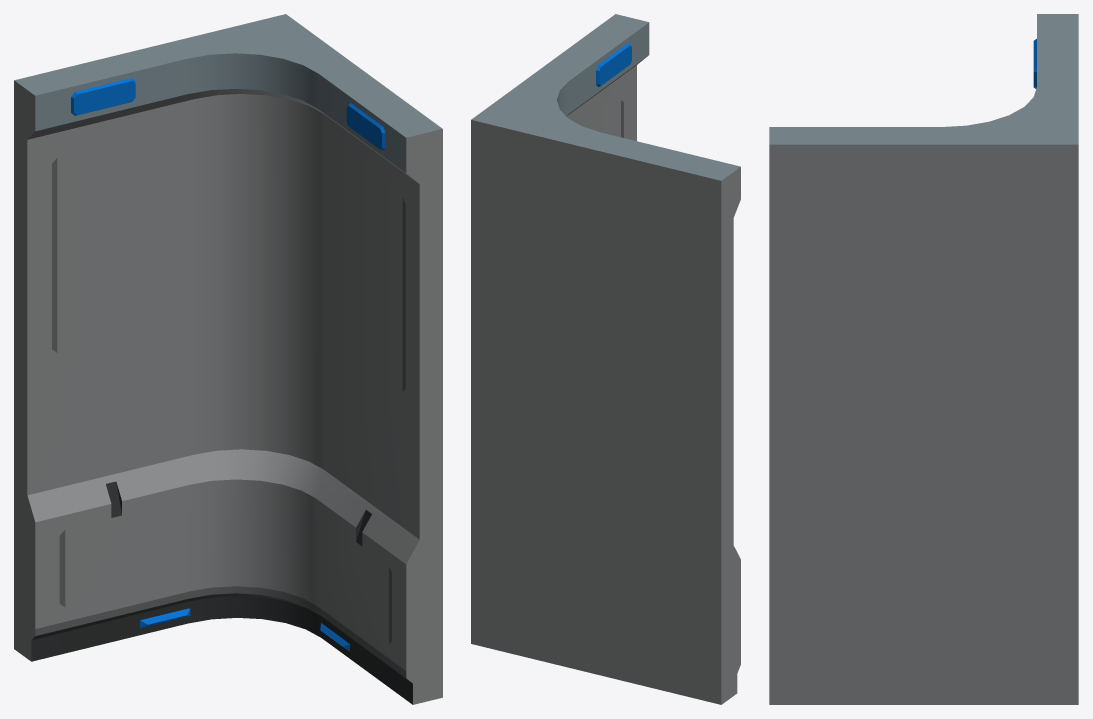
File: Wall_type_B_070.fbx
The picture shows the model from 3 angles, left to right: view 1: azimuth 30°, elevation 25°; view 2: azimuth 150°, elevation 25°; view 3: azimuth 270°, elevation 25°; orthographic projection. The views are drawn at different scales.
Parts seen in each view (by area): view 1: Wall_type_B_070; view 2: Wall_type_B_070; view 3: Wall_type_B_070.
Boxes of the visible parts, bbox=[...] form: Wall_type_B_070: bbox=[14, 14, 442, 704]; Wall_type_B_070: bbox=[471, 14, 740, 704]; Wall_type_B_070: bbox=[769, 14, 1078, 704].
Bounding box in the file's own units: 200 × 200 × 400.
